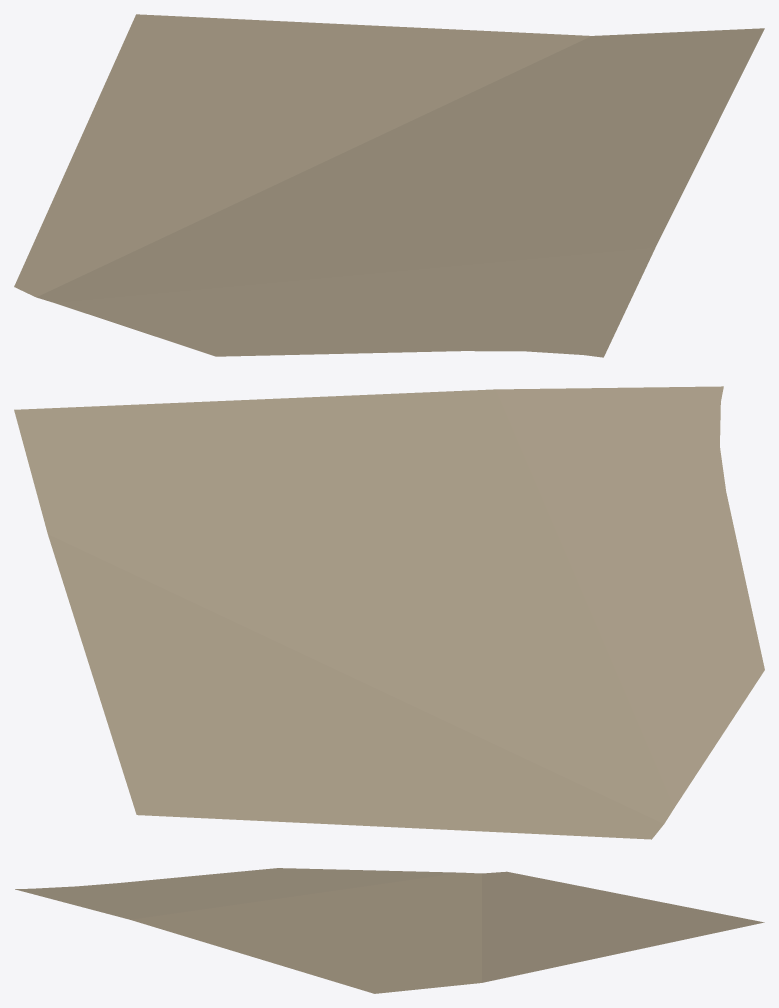
File: farm_-12_-4_soil.glb
The picture shows the model from 3 angles, top to bottom: view 1: azimuth 30°, elevation 25°; view 2: azimuth 150°, elevation 25°; view 3: azimuth 270°, elevation 25°; orthographic projection. The views are drawn at different scales.
Parts seen in each view (by area): view 1: geometry_0; view 2: geometry_0; view 3: geometry_0.
Boxes of the visible parts, <box> form: geometry_0: <box>14,14,764,357</box>; geometry_0: <box>14,386,764,839</box>; geometry_0: <box>15,868,764,993</box>.
Size of the model in its own units: 76.56 by 17.79 by 99.7.
